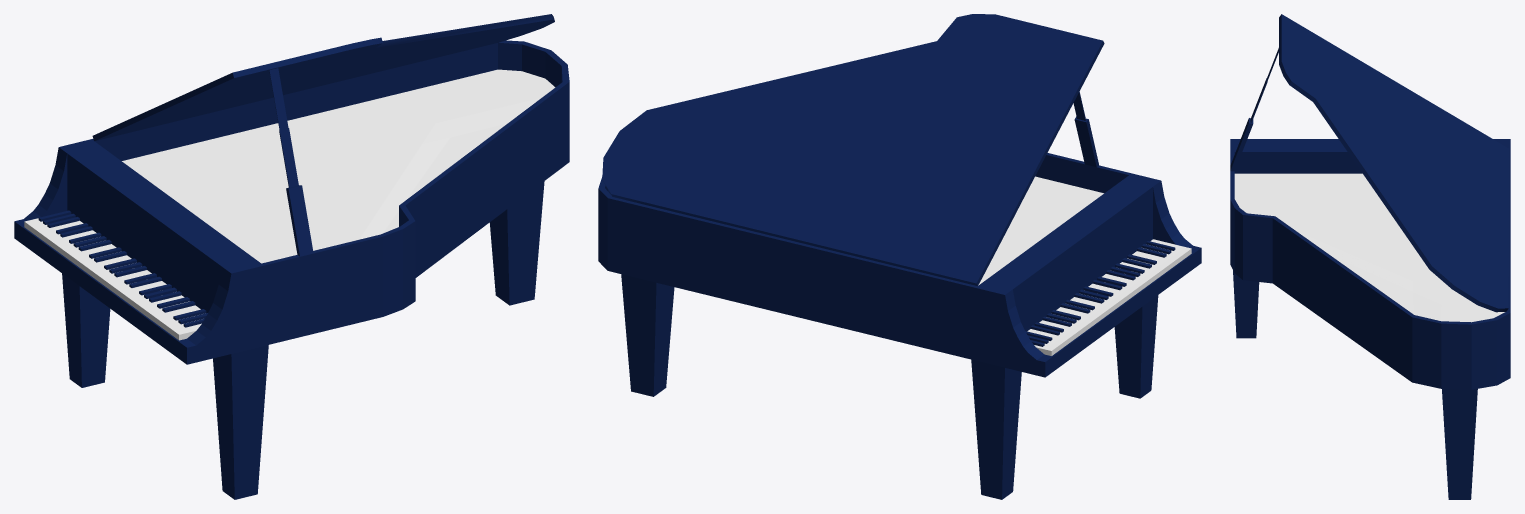
Rendered from Piano.fbx.
3 renders of one model, left to right at view 1: azimuth 30°, elevation 25°; view 2: azimuth 150°, elevation 25°; view 3: azimuth 270°, elevation 25°, orthographic. The views are drawn at different scales.
Parts seen in each view (by area): view 1: Piano; view 2: Piano; view 3: Piano.
Part boxes in pixels (box(x1,y1,x2,y2)): Piano: box(14, 14, 569, 499); Piano: box(598, 14, 1201, 499); Piano: box(1230, 14, 1510, 499).
Bounding box in the file's own units: 232 × 173 × 135.
